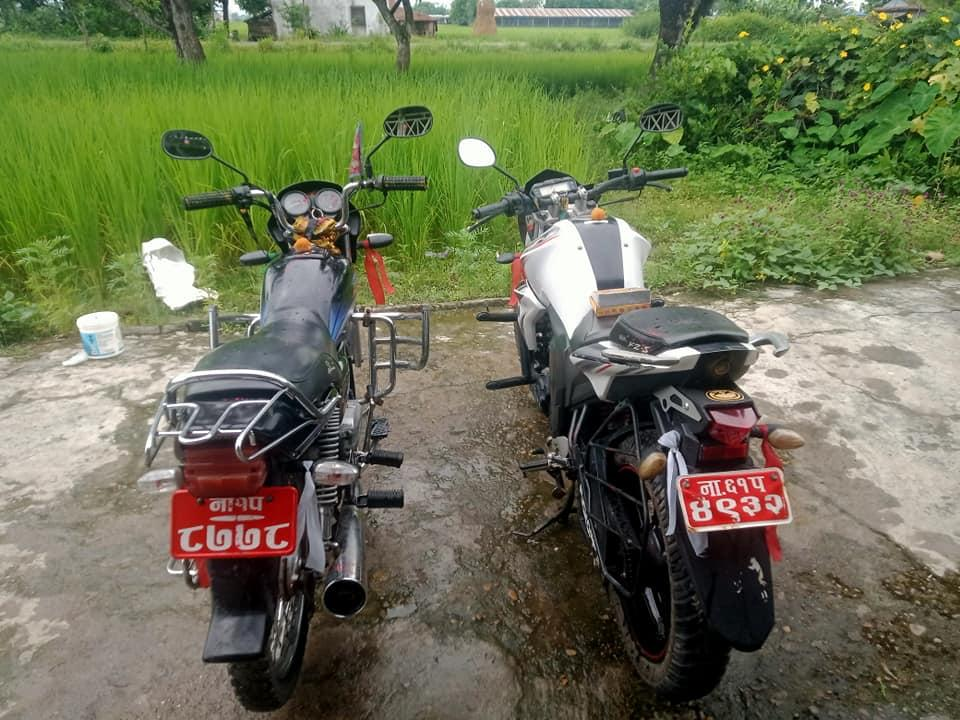bike: (452, 82, 811, 720), (138, 90, 444, 720)
